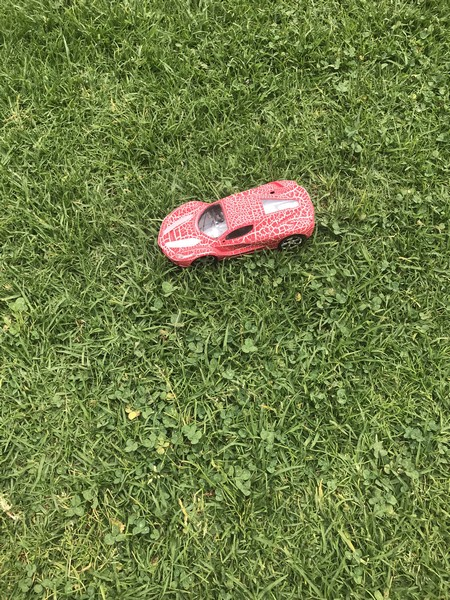RC: (155, 179, 317, 275)
